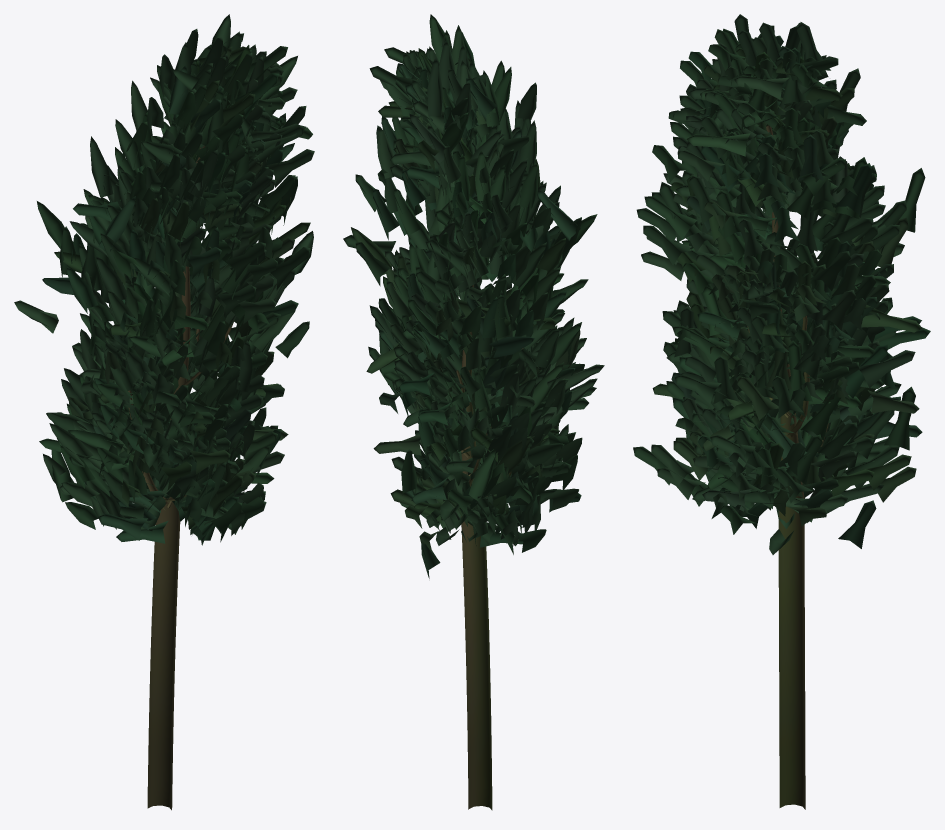
Rendered from SM_Tree_garden_shrub_3.glb.
3 views of the same model, side by side, from view 1: azimuth 30°, elevation 25°; view 2: azimuth 150°, elevation 25°; view 3: azimuth 270°, elevation 25° (orthographic). The views are drawn at different scales.
Visible parts, largest first — view 1: SM_Tree_garden_shrub_3; view 2: SM_Tree_garden_shrub_3; view 3: SM_Tree_garden_shrub_3.
Part boxes in pixels (<box>): SM_Tree_garden_shrub_3: <box>14,14,314,810</box>; SM_Tree_garden_shrub_3: <box>343,14,604,810</box>; SM_Tree_garden_shrub_3: <box>633,14,930,809</box>.
Bounding box in the file's own units: 1.12 × 3.24 × 1.08.
